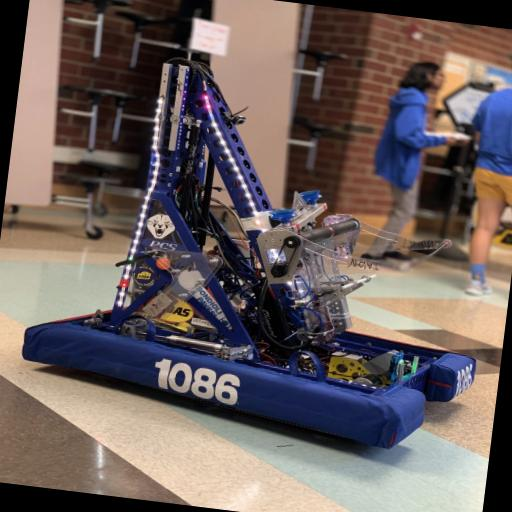robot: (16, 30, 512, 470)
